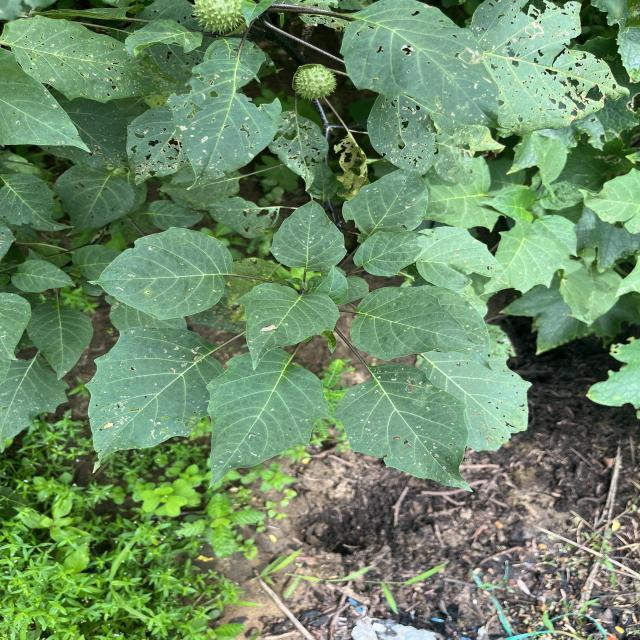Datura metal linn: (83, 326, 212, 476), (332, 361, 475, 495), (205, 347, 334, 490), (85, 225, 238, 322), (348, 284, 485, 362), (233, 280, 342, 372), (268, 190, 350, 272)
